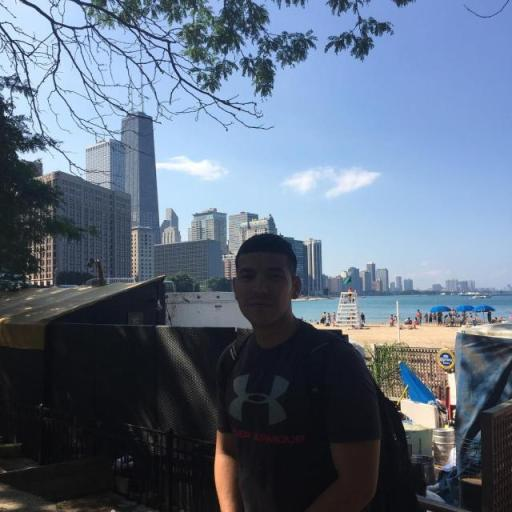Under Armour: (224, 371, 294, 429)
